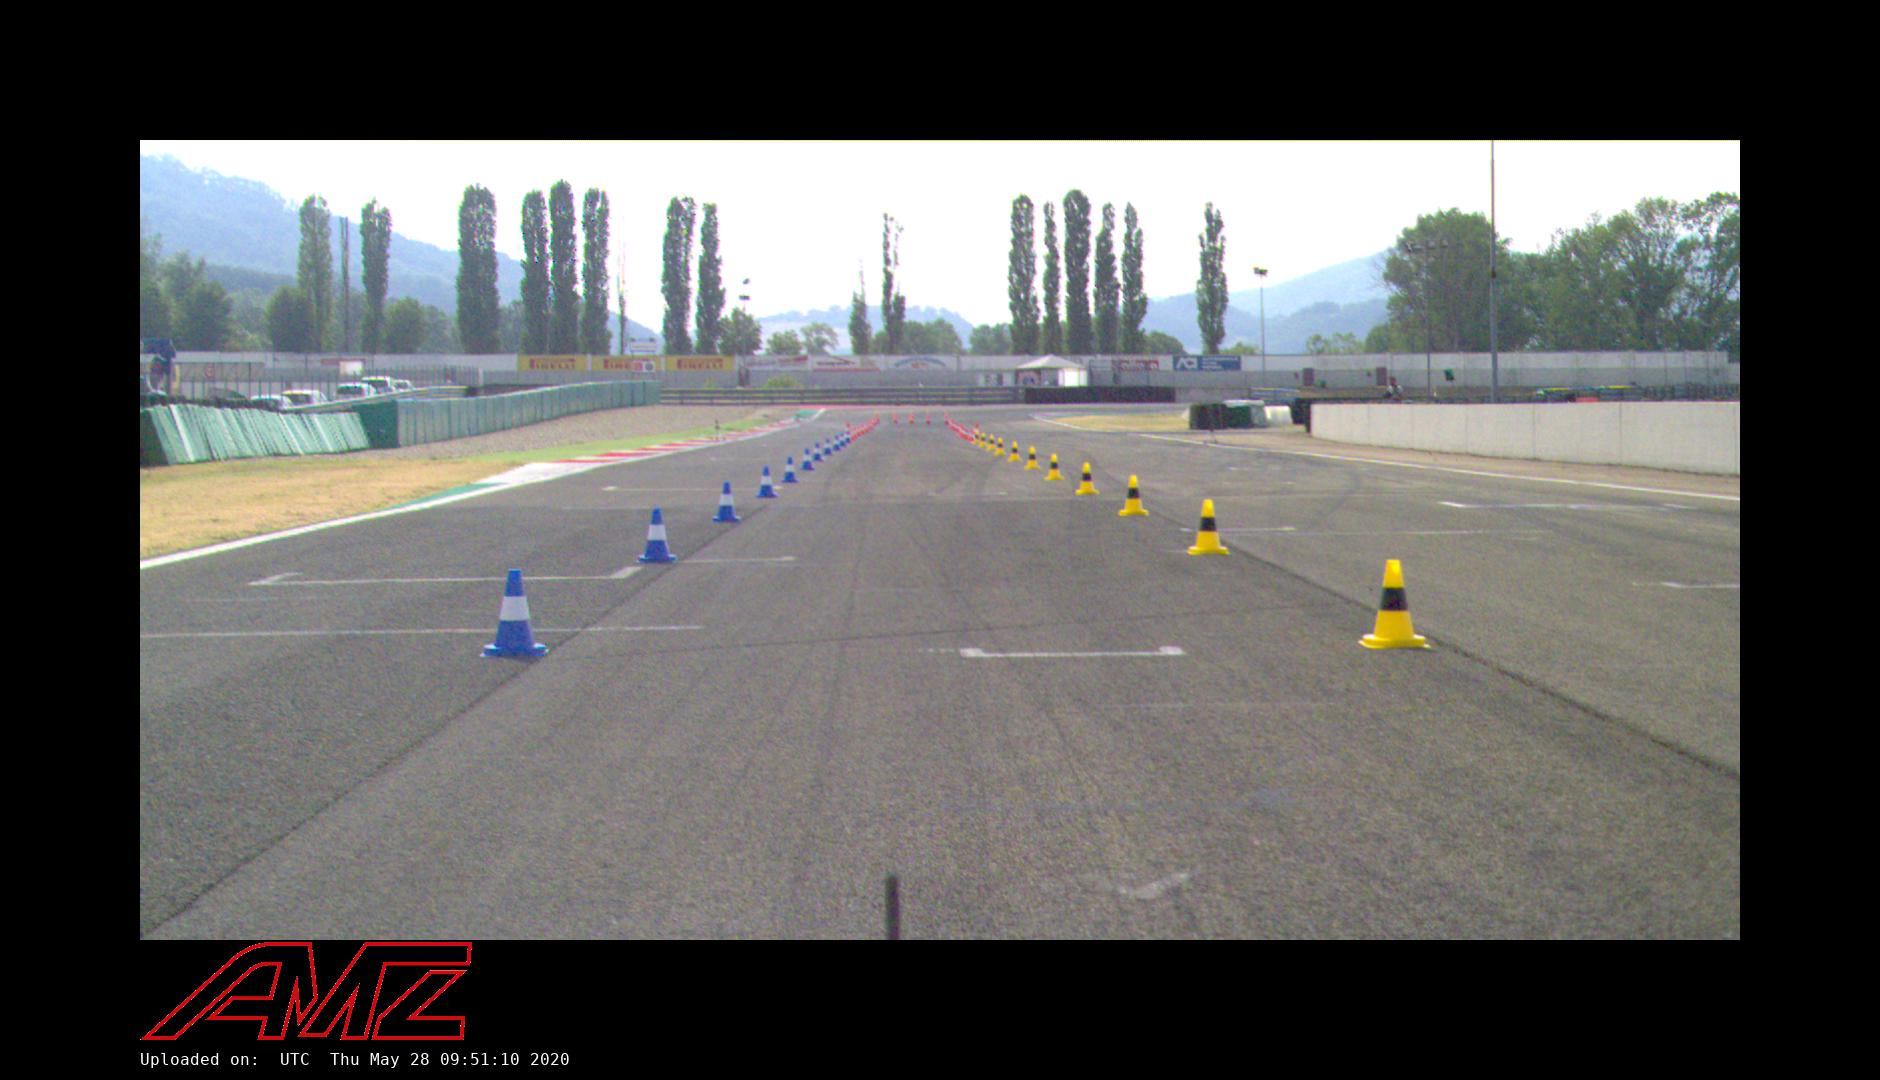blue_cone: (478, 568, 553, 659), (637, 506, 679, 565), (711, 482, 744, 523), (755, 465, 779, 497), (781, 456, 799, 483), (801, 448, 815, 472), (811, 442, 824, 462), (822, 438, 833, 456), (832, 435, 842, 451)
yellow_cone: (1358, 559, 1432, 652), (1187, 499, 1231, 557), (1118, 474, 1150, 518), (1076, 461, 1100, 496), (1045, 453, 1065, 481), (1023, 444, 1042, 472), (1007, 441, 1023, 462), (994, 437, 1007, 457), (985, 434, 998, 452)
